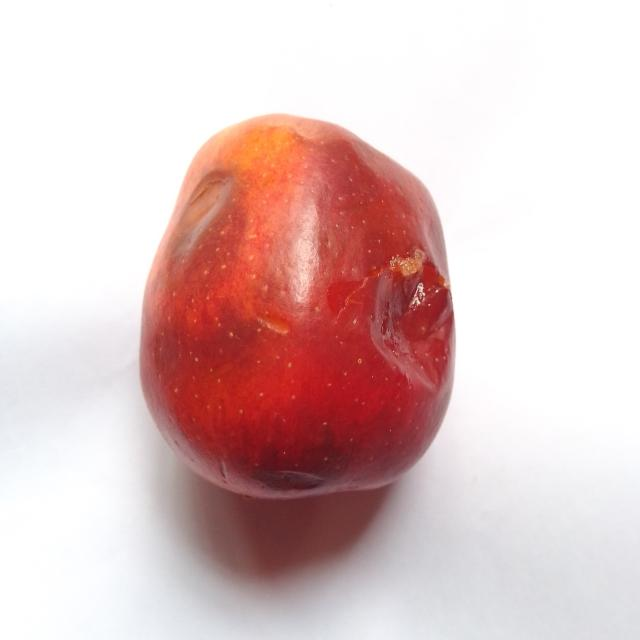apple: (141, 115, 454, 497)
